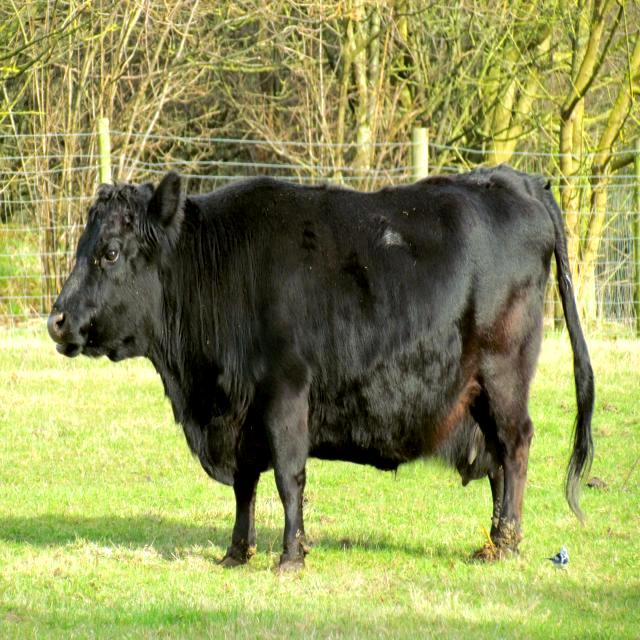COW: (48, 165, 594, 569)
